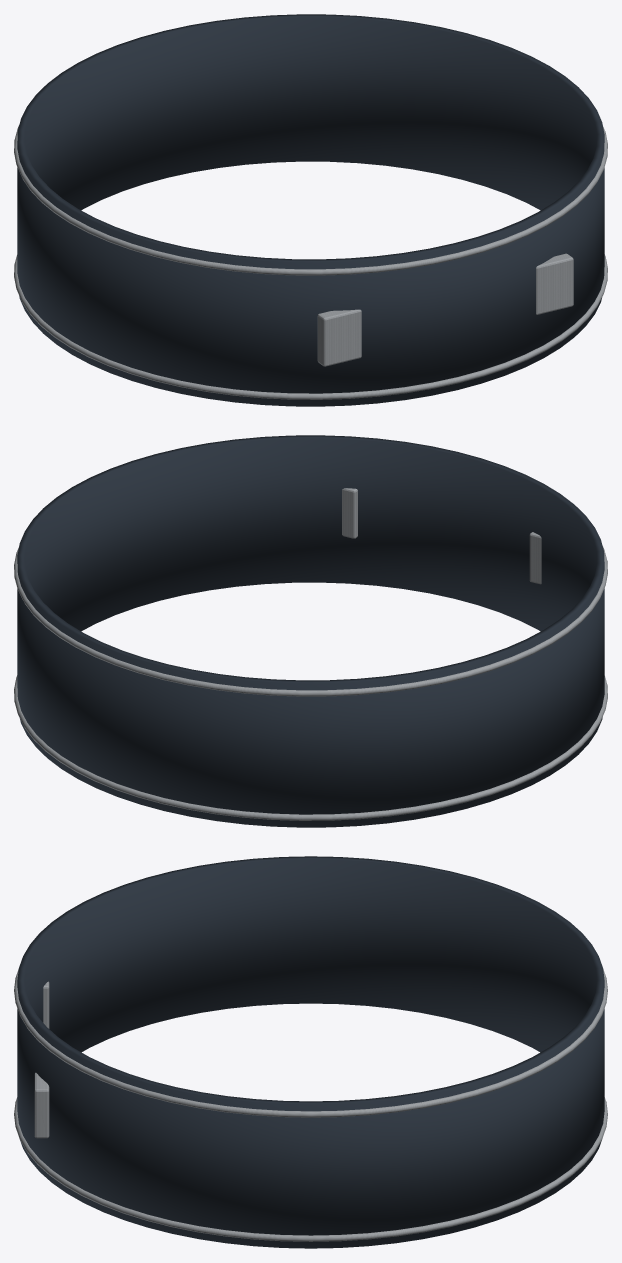
The model's file is interstage.glb.
3 renders of one model, top to bottom at view 1: azimuth 30°, elevation 25°; view 2: azimuth 150°, elevation 25°; view 3: azimuth 270°, elevation 25°, orthographic.
Parts seen in each view (by area): view 1: Interstage_Shell, Lower_Interface, Upper_Interface, Separation_Housing, Separation_Housing.001; view 2: Interstage_Shell, Lower_Interface, Upper_Interface, Separation_Housing.001, Separation_Housing; view 3: Interstage_Shell, Upper_Interface, Lower_Interface, Separation_Housing.001.
Boxes of the visible parts, left/top/right/bottom form: Interstage_Shell: left=17, top=14, right=604, bottom=406; Lower_Interface: left=14, top=254, right=607, bottom=399; Upper_Interface: left=14, top=125, right=607, bottom=275; Separation_Housing: left=317, top=309, right=361, bottom=366; Separation_Housing.001: left=536, top=253, right=573, bottom=314; Interstage_Shell: left=17, top=435, right=604, bottom=827; Lower_Interface: left=14, top=675, right=607, bottom=820; Upper_Interface: left=14, top=546, right=607, bottom=696; Separation_Housing.001: left=342, top=488, right=357, bottom=538; Separation_Housing: left=529, top=532, right=541, bottom=584; Interstage_Shell: left=17, top=856, right=604, bottom=1248; Upper_Interface: left=14, top=969, right=607, bottom=1117; Lower_Interface: left=14, top=1097, right=607, bottom=1241; Separation_Housing.001: left=34, top=1072, right=49, bottom=1138.
Size of the model in its own units: 2.43 by 0.65 by 2.43.
Materials: 2 (1 with a texture image).
